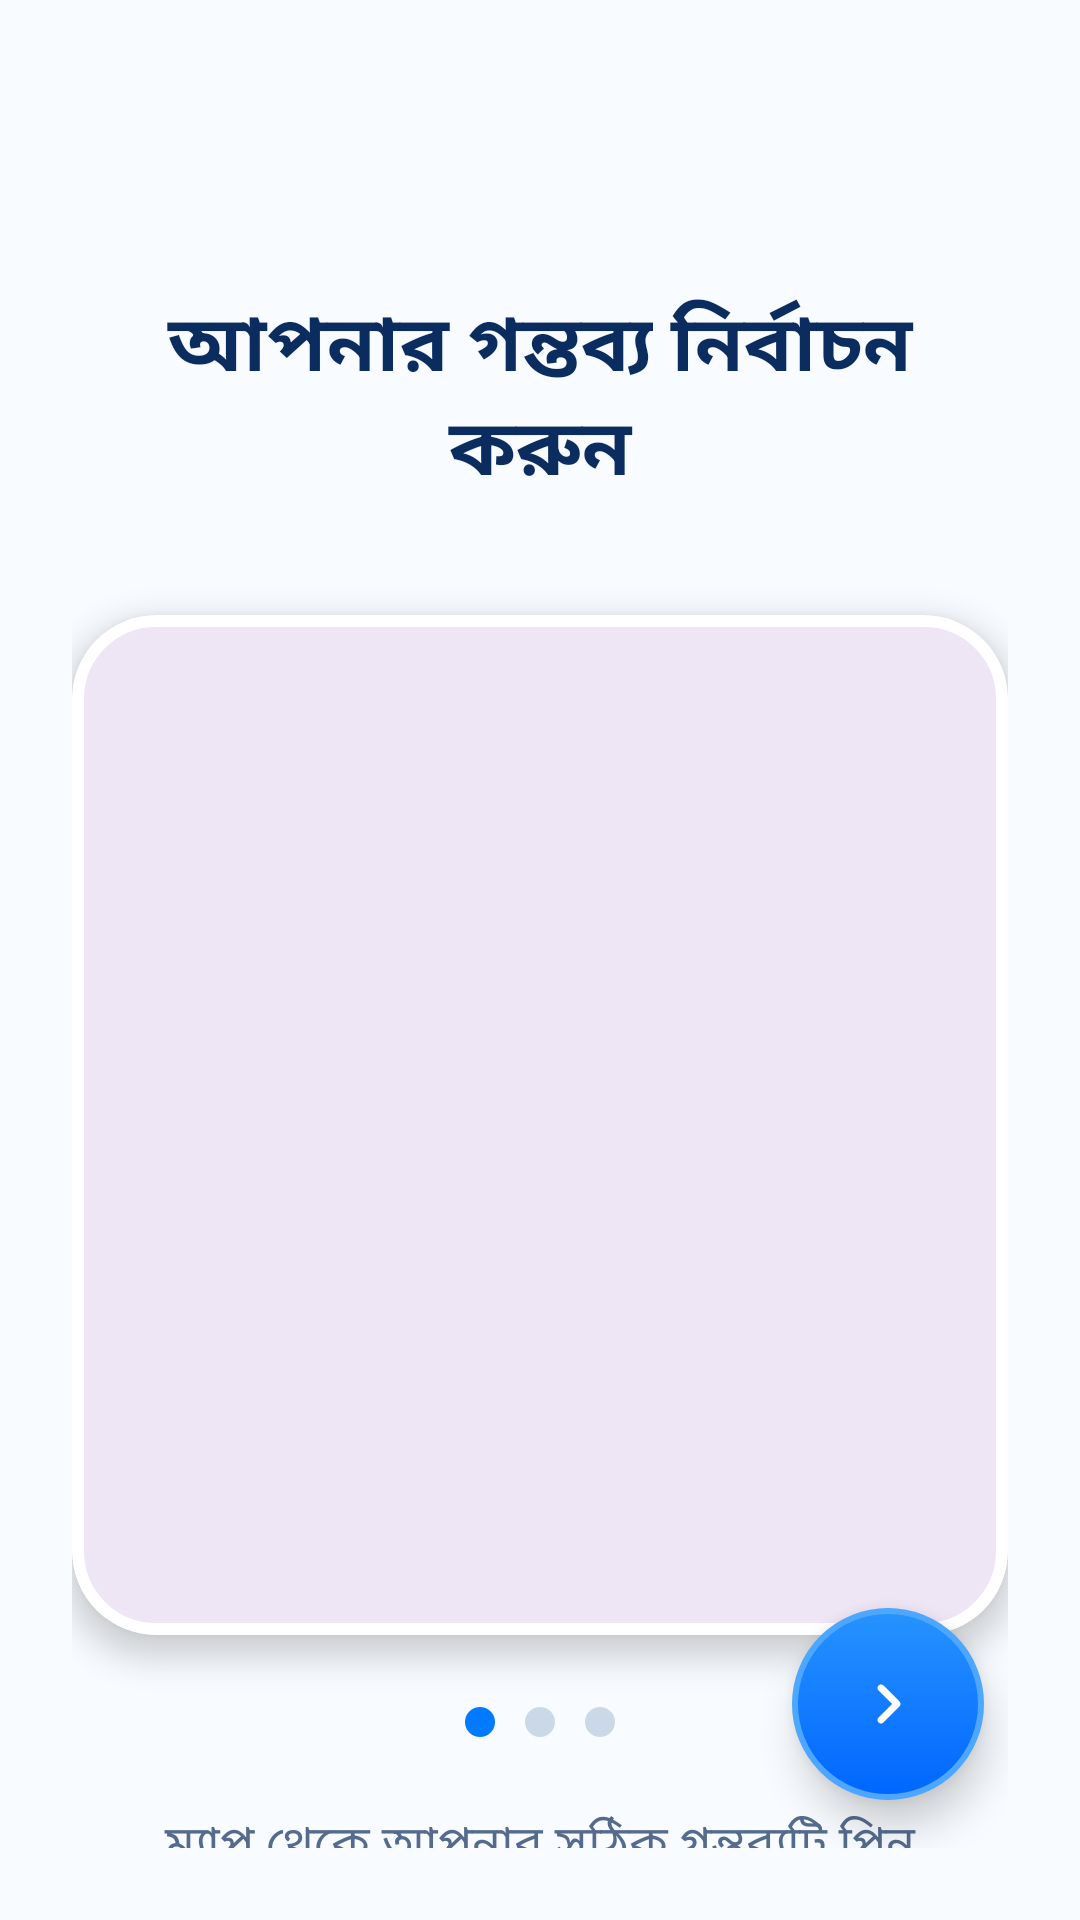

Icons on this 1080 × 1920 Android screen, each with the point to tap as point (x, y):
Next: point (888, 1704)
